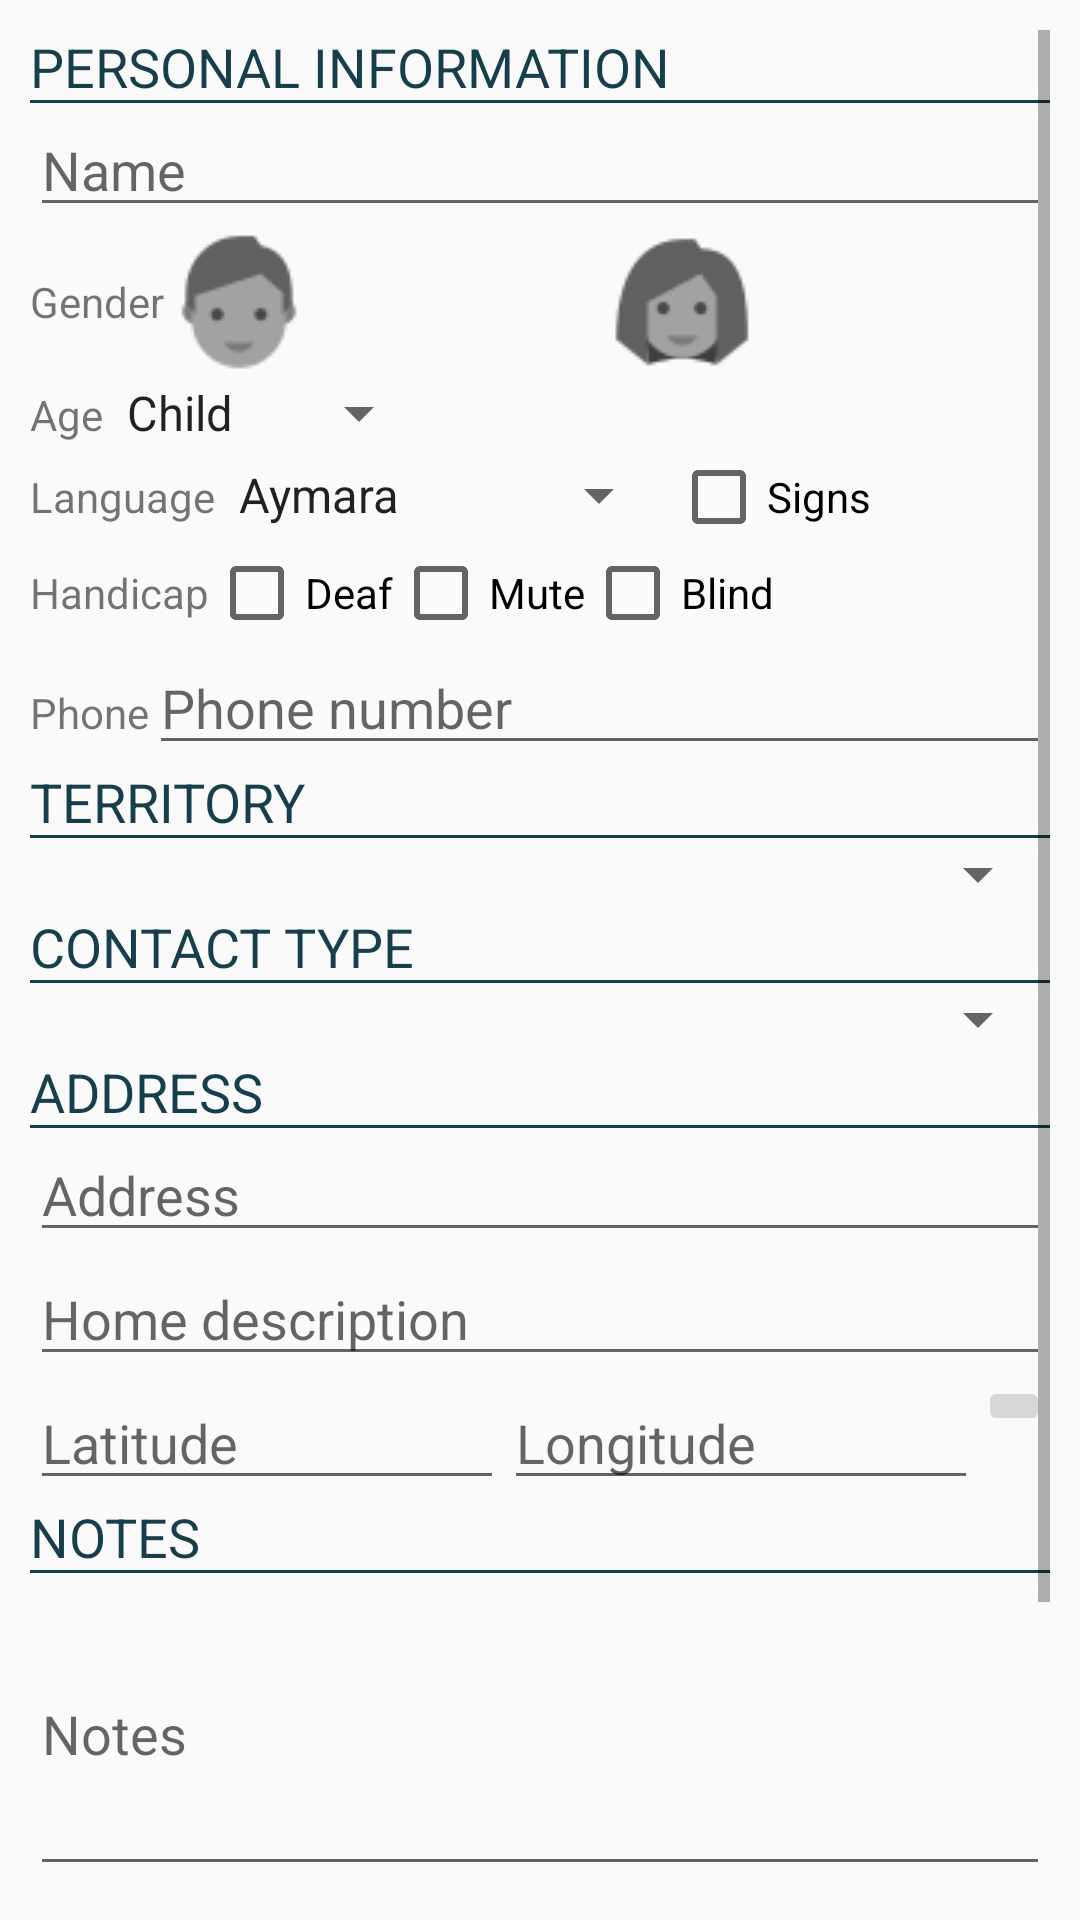

Screen size 1080*1920. Icon name, then its center in pixels as (x,y):
female: (682,302)
male: (239,302)
